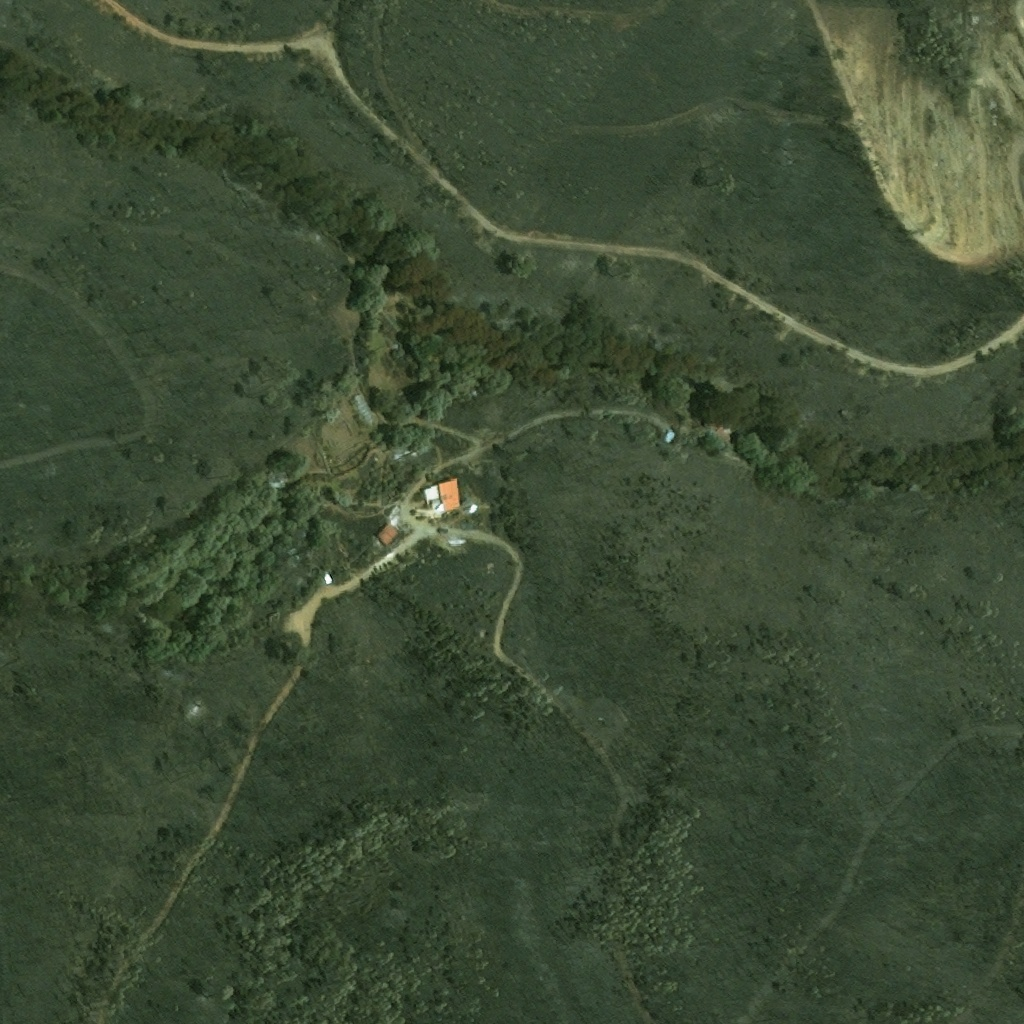0 no-damage: (346, 389, 375, 429), (436, 480, 460, 513), (373, 523, 400, 549), (706, 425, 730, 447), (420, 485, 439, 506), (660, 432, 673, 446)
